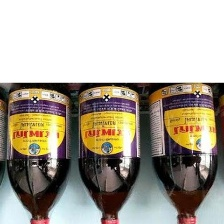insecticide: (147, 75, 220, 224), (2, 77, 75, 224), (75, 73, 143, 223)
